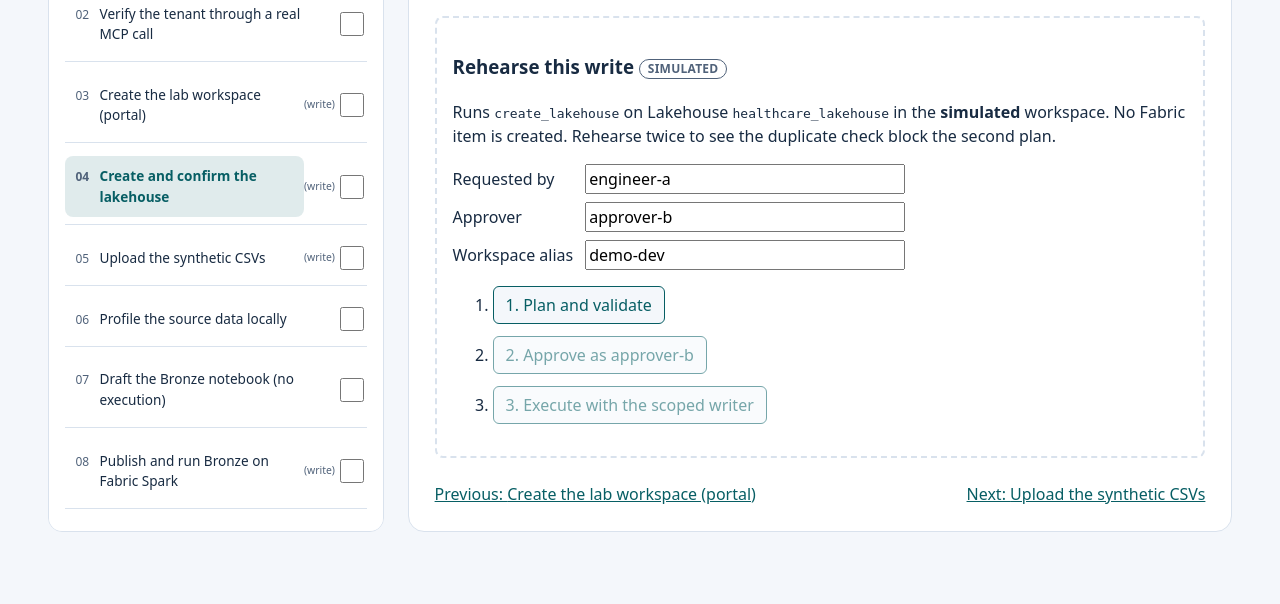
Scenario: guide runner › rehearses a governed write: plan, approve, execute, audit
(page scrolled)
expect the button "2. Approve as approver-b" is disabled: met, box [493,336,707,374]
Click the button "1. Plan and validate" at (579, 305), box [493,286,665,324]
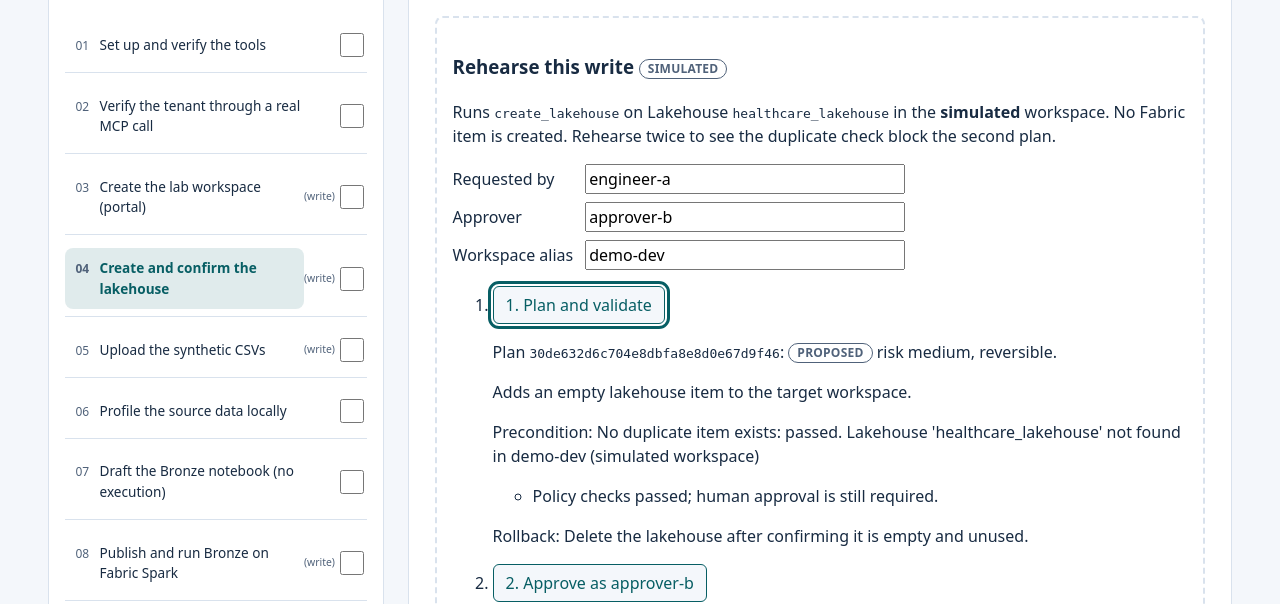
expect the text "30de632d6c704e8dbfa8e8d0e67d9f46" is shown: met, box [529,346,780,361]
Click the button "2. Approve as approver-b" at (600, 583), box [493,564,707,602]
(page scrolled)
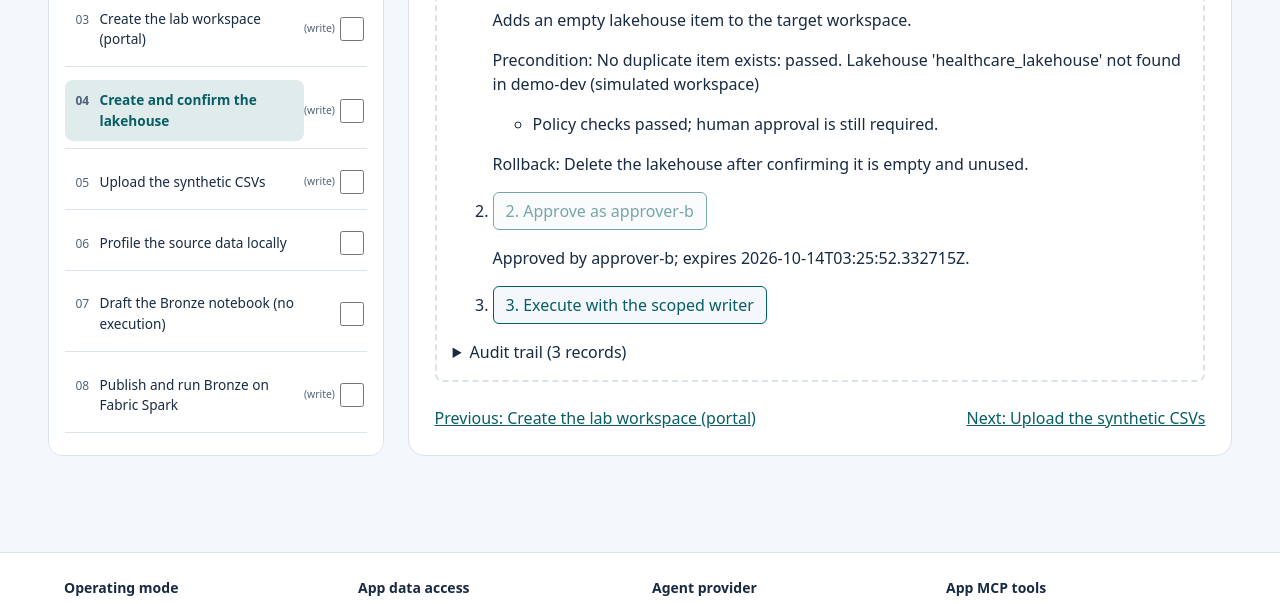
expect the text "Approved by approver-b; expires 2026-10-14T03:25:52.332715Z." is shown: met, box [493,247,970,269]
Click the button "3. Execute with the scoped writer" at (630, 305), box [493,286,767,324]
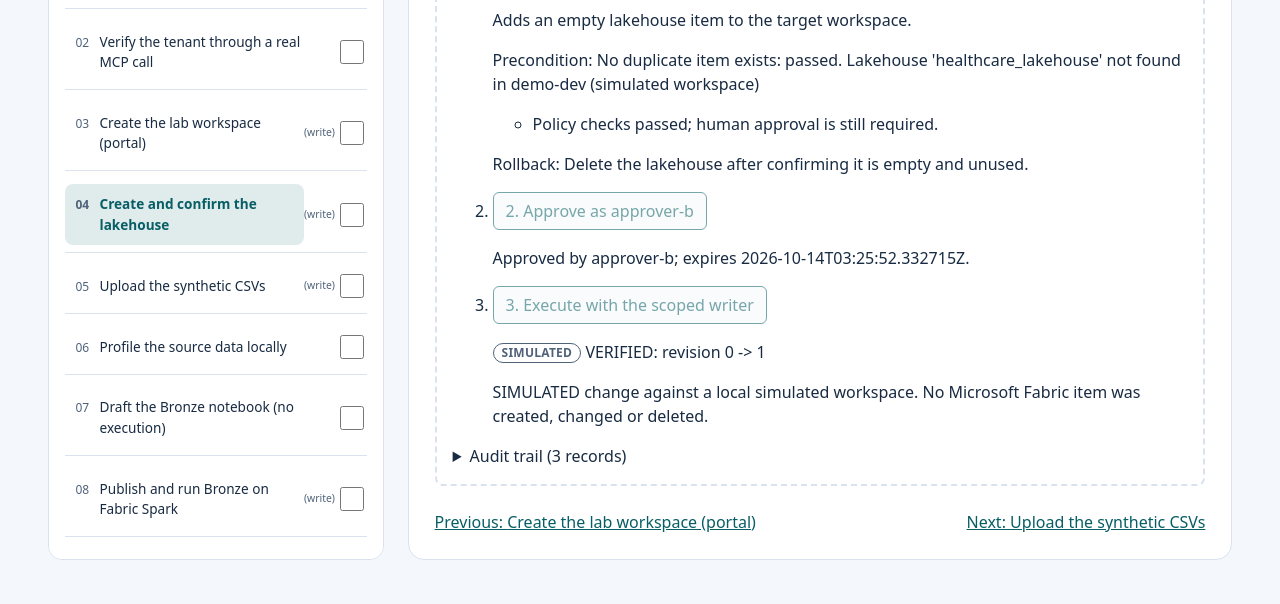
expect the text "revision 0 -> 1" is shown: met, box [662,341,766,363]
